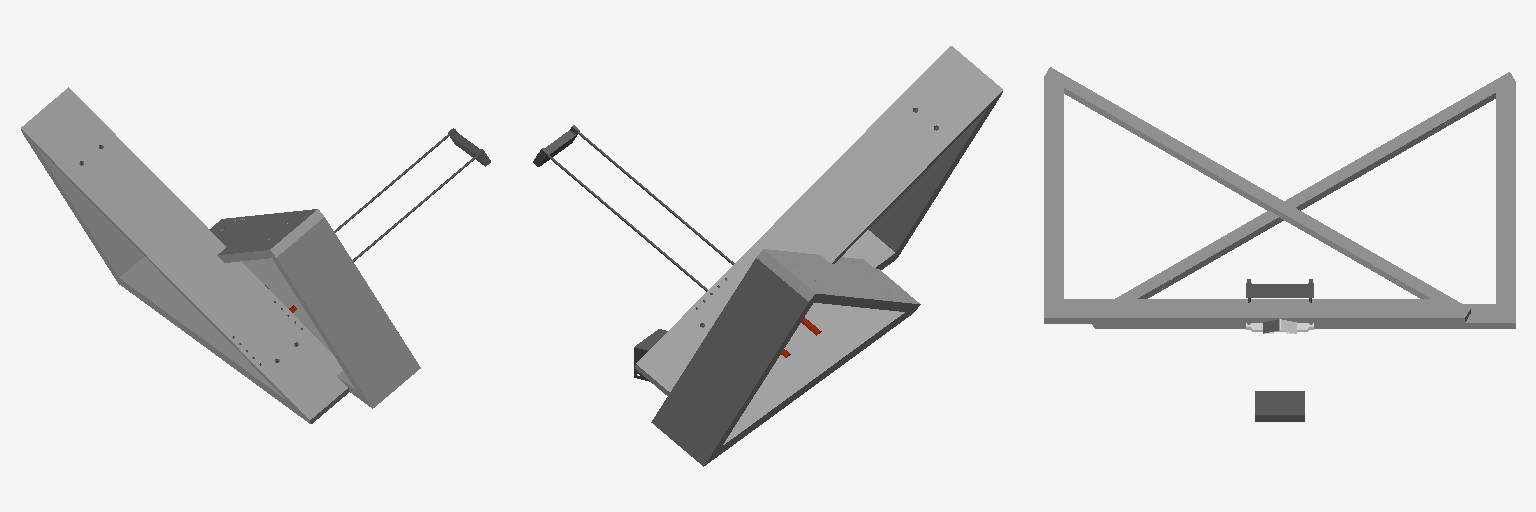
URDF robot description (robotDescription):
<?xml version="1.0" ?>
<!-- Generated using onshape-to-robot -->
<!-- Onshape https://cad.onshape.com/documents/f71873f371b6f1055f62b9c0/w/0de4f6b64e52cba69fbb3281/e/237818edb63ecf9d400ec518 -->
<robot name="robotDescription">
  <!-- Link part_1 -->
  <link name="part_1">
    <inertial>
      <origin xyz="0 0 0" rpy="0 0 0"/>
      <mass value="1e-09"/>
      <inertia ixx="1e-09" ixy="0" ixz="0" iyy="1e-09" iyz="0" izz="1e-09"/>
    </inertial>
    <!-- Part part_1 -->
    <visual>
      <origin xyz="-0.543884 0.11 0.235048" rpy="-1.5708 1.0472 -6.83926e-17"/>
      <geometry>
        <mesh filename="assets/part_1.stl"/>
      </geometry>
      <material name="part_1_material">
        <color rgba="0.596078 0.176471 0.0509804 1"/>
      </material>
    </visual>
    <collision>
      <origin xyz="-0.543884 0.11 0.235048" rpy="-1.5708 1.0472 -6.83926e-17"/>
      <geometry>
        <mesh filename="assets/part_1.stl"/>
      </geometry>
    </collision>
    <!-- Part part_1_2 -->
    <visual>
      <origin xyz="-0.427032 0 0.232654" rpy="2.49273e-17 -0.523599 -1.78052e-16"/>
      <geometry>
        <mesh filename="assets/part_1__2.stl"/>
      </geometry>
      <material name="part_1_2_material">
        <color rgba="0.917647 0.917647 0.917647 1"/>
      </material>
    </visual>
    <collision>
      <origin xyz="-0.427032 0 0.232654" rpy="2.49273e-17 -0.523599 -1.78052e-16"/>
      <geometry>
        <mesh filename="assets/part_1__2.stl"/>
      </geometry>
    </collision>
    <!-- Part part_1_3 -->
    <visual>
      <origin xyz="0 0 0" rpy="0 -0 0"/>
      <geometry>
        <mesh filename="assets/part_1__3.stl"/>
      </geometry>
      <material name="part_1_3_material">
        <color rgba="0.4 0.4 0.4 1"/>
      </material>
    </visual>
    <collision>
      <origin xyz="0 0 0" rpy="0 -0 0"/>
      <geometry>
        <mesh filename="assets/part_1__3.stl"/>
      </geometry>
    </collision>
    <!-- Part part_1_4 -->
    <visual>
      <origin xyz="-0.340429 -0.09 0.282654" rpy="0.523599 7.70988e-18 -1.5708"/>
      <geometry>
        <mesh filename="assets/part_1__4.stl"/>
      </geometry>
      <material name="part_1_4_material">
        <color rgba="0.647059 0.647059 0.647059 1"/>
      </material>
    </visual>
    <collision>
      <origin xyz="-0.340429 -0.09 0.282654" rpy="0.523599 7.70988e-18 -1.5708"/>
      <geometry>
        <mesh filename="assets/part_1__4.stl"/>
      </geometry>
    </collision>
    <!-- Part part_1_5 -->
    <visual>
      <origin xyz="-0.526625 0 0.175154" rpy="-0.523599 5.55112e-17 1.5708"/>
      <geometry>
        <mesh filename="assets/part_1__5.stl"/>
      </geometry>
      <material name="part_1_5_material">
        <color rgba="0.4 0.4 0.4 1"/>
      </material>
    </visual>
    <collision>
      <origin xyz="-0.526625 0 0.175154" rpy="-0.523599 5.55112e-17 1.5708"/>
      <geometry>
        <mesh filename="assets/part_1__5.stl"/>
      </geometry>
    </collision>
    <!-- Part part_1_6 -->
    <visual>
      <origin xyz="-0.370679 -0.11 0.335048" rpy="1.5708 -1.0472 3.14159"/>
      <geometry>
        <mesh filename="assets/part_1.stl"/>
      </geometry>
      <material name="part_1_6_material">
        <color rgba="0.596078 0.176471 0.0509804 1"/>
      </material>
    </visual>
    <collision>
      <origin xyz="-0.370679 -0.11 0.335048" rpy="1.5708 -1.0472 3.14159"/>
      <geometry>
        <mesh filename="assets/part_1.stl"/>
      </geometry>
    </collision>
    <!-- Part part_1_7 -->
    <visual>
      <origin xyz="-0.513634 0.09 0.182654" rpy="-0.523599 5.55112e-17 1.5708"/>
      <geometry>
        <mesh filename="assets/part_1__4.stl"/>
      </geometry>
      <material name="part_1_7_material">
        <color rgba="0.647059 0.647059 0.647059 1"/>
      </material>
    </visual>
    <collision>
      <origin xyz="-0.513634 0.09 0.182654" rpy="-0.523599 5.55112e-17 1.5708"/>
      <geometry>
        <mesh filename="assets/part_1__4.stl"/>
      </geometry>
    </collision>
  </link>
</robot>

--- Facts derived from the render (not from the file) ---
3 views of the same robot in one strip: view 1: azimuth 30°, elevation 25°; view 2: azimuth 150°, elevation 25°; view 3: azimuth 270°, elevation 25° (orthographic).
Model robotDescription with 1 links and 0 joints (none), rooted at part_1, posed all joints at 0.
Links seen in each view (by area): view 1: part_1; view 2: part_1; view 3: part_1.
Link boxes in pixels (left/top/right/bottom): part_1: left=21, top=87, right=490, bottom=423; part_1: left=533, top=46, right=1002, bottom=466; part_1: left=1044, top=67, right=1515, bottom=421.
Size in the robot's own frame: 1.57 by 1.68 by 1.13 metres.
Meshes: 5 distinct files referenced, 7 mesh visuals loaded (5 binary STL).